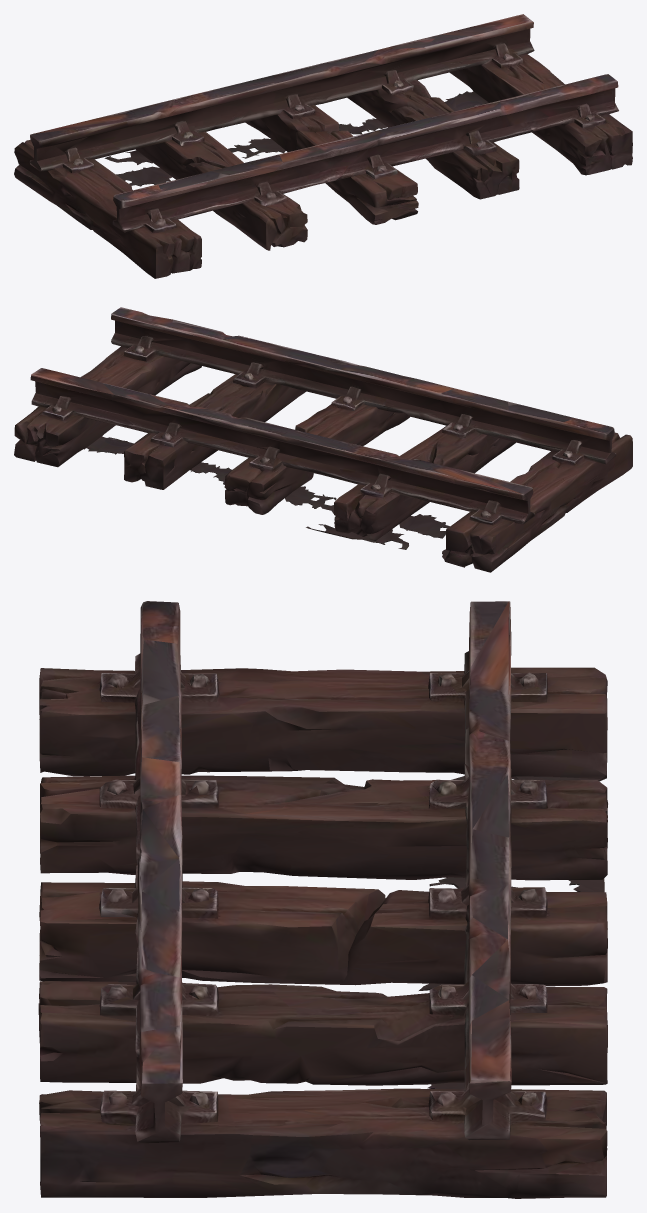
The model's file is mine_rails_straight_idle.glb.
3 views of the same model, one above another, from view 1: azimuth 30°, elevation 25°; view 2: azimuth 150°, elevation 25°; view 3: azimuth 270°, elevation 25° (orthographic). The views are drawn at different scales.
Visible parts, largest first — view 1: tripo_node_882cd657-abe9-402b-9302-f55d1e278375; view 2: tripo_node_882cd657-abe9-402b-9302-f55d1e278375; view 3: tripo_node_882cd657-abe9-402b-9302-f55d1e278375.
Boxes of the visible parts, <box> form: tripo_node_882cd657-abe9-402b-9302-f55d1e278375: <box>14,14,632,278</box>; tripo_node_882cd657-abe9-402b-9302-f55d1e278375: <box>14,307,632,572</box>; tripo_node_882cd657-abe9-402b-9302-f55d1e278375: <box>38,601,607,1198</box>.
Size of the model in its own units: 3 by 0.3687 by 1.49.
1 material, 1 textured.
